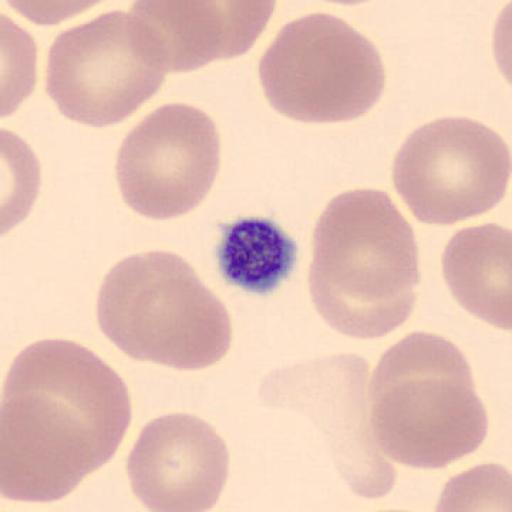Platelet: (212, 213, 300, 296)
RBC: (205, 353, 398, 509), (1, 336, 134, 482), (307, 186, 421, 342), (101, 250, 233, 372), (44, 7, 171, 128), (257, 12, 389, 126), (390, 114, 510, 228), (113, 100, 223, 222), (368, 375, 491, 471), (128, 266, 233, 372), (368, 328, 478, 428), (94, 248, 188, 364), (126, 410, 230, 512), (2, 393, 92, 504), (126, 0, 254, 73), (441, 222, 512, 332), (180, 0, 277, 63), (2, 128, 42, 236), (432, 461, 512, 512), (2, 12, 38, 121), (15, 3, 122, 34), (3, 0, 115, 27), (490, 0, 512, 92), (302, 0, 388, 7)
